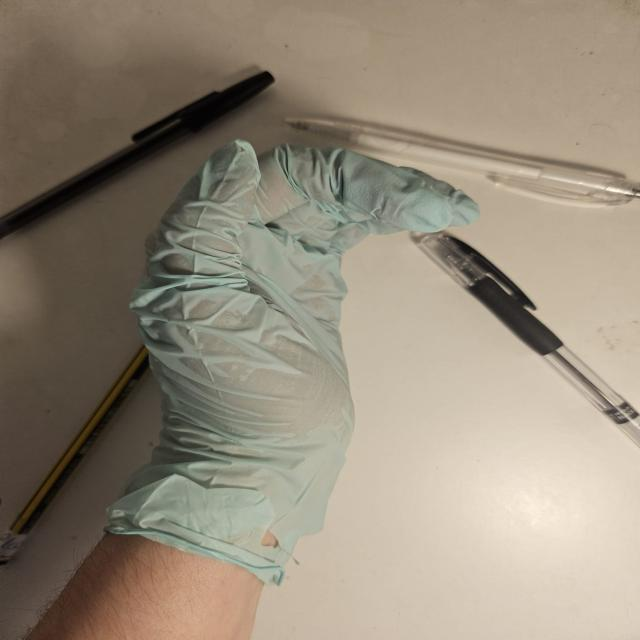gloves_damaged: (101, 139, 483, 579)
